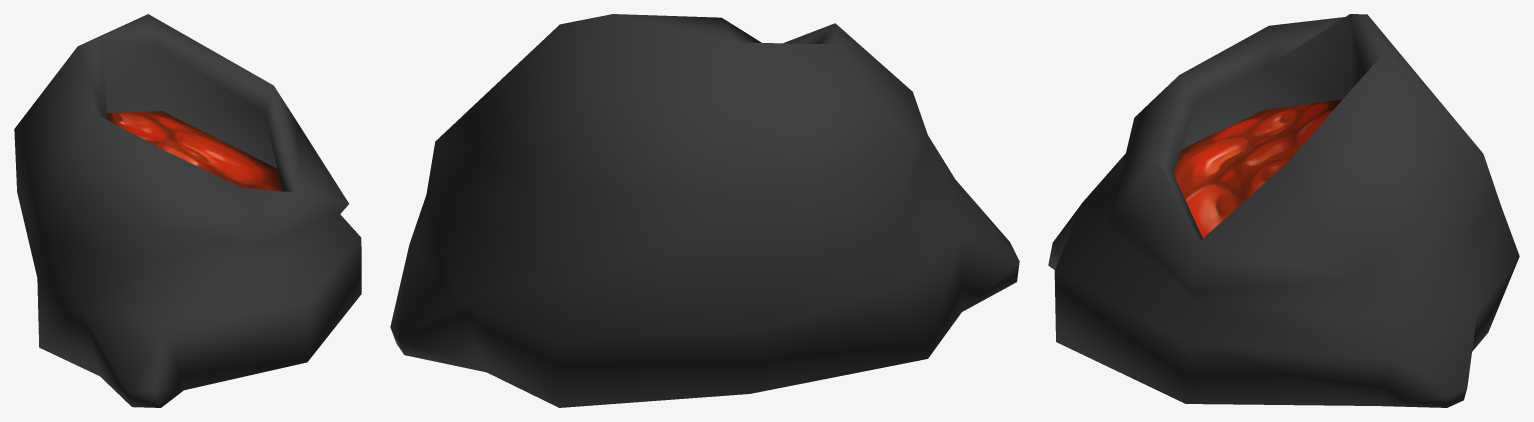
The model's file is SM_PROP_sack_10.FBX.
The picture shows the model from 3 angles, left to right: view 1: azimuth 30°, elevation 25°; view 2: azimuth 150°, elevation 25°; view 3: azimuth 270°, elevation 25°; orthographic projection. The views are drawn at different scales.
Parts seen in each view (by area): view 1: SM_PROP_sack_10; view 2: SM_PROP_sack_10; view 3: SM_PROP_sack_10.
Part boxes in pixels (x1=…): SM_PROP_sack_10: x1=14, y1=14, x2=361, y2=407; SM_PROP_sack_10: x1=390, y1=14, x2=1019, y2=407; SM_PROP_sack_10: x1=1048, y1=14, x2=1519, y2=407.
Size of the model in its own units: 65.25 by 74.51 by 51.32.
